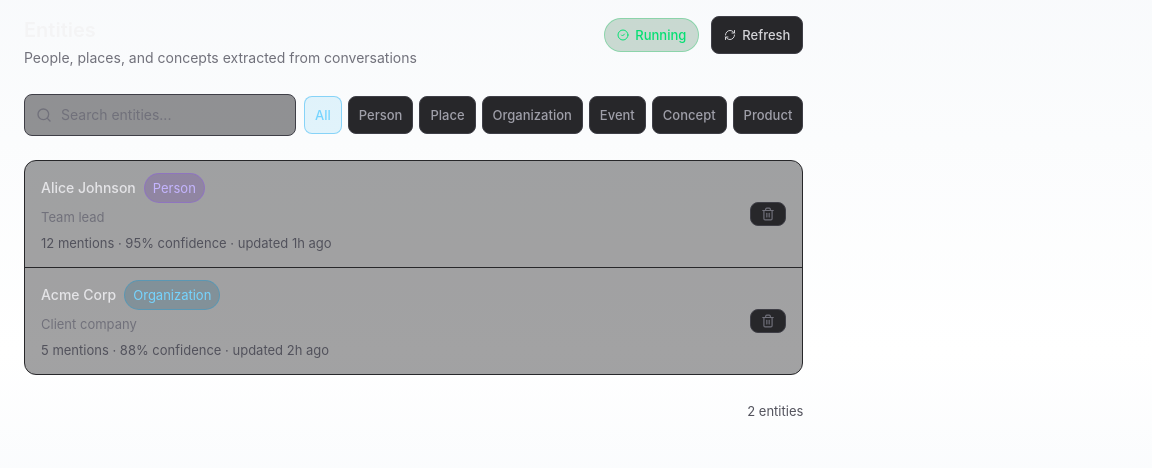
Test: EntitiesPage › filters entities by search term
The image size is (1152, 468).
Expected: the text "Alice Johnson" is shown, x1=41 y1=176 x2=136 y2=200
Type "alice" into the search field with placeholder "Search entities..." at (160, 115), box x1=24 y1=94 x2=296 y2=136
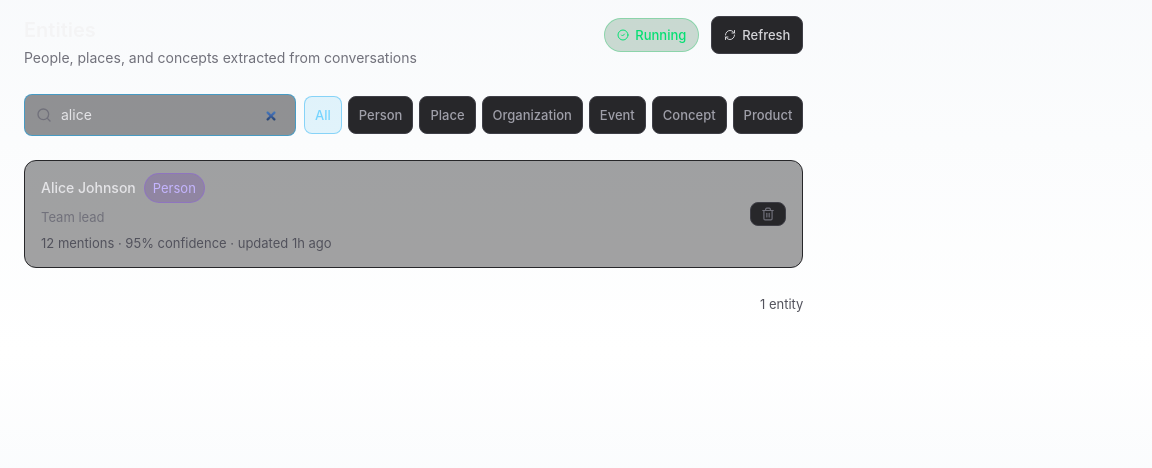
Expected: the text "Alice Johnson" is shown, x1=41 y1=176 x2=136 y2=200
Result: the text "Acme Corp" is gone
